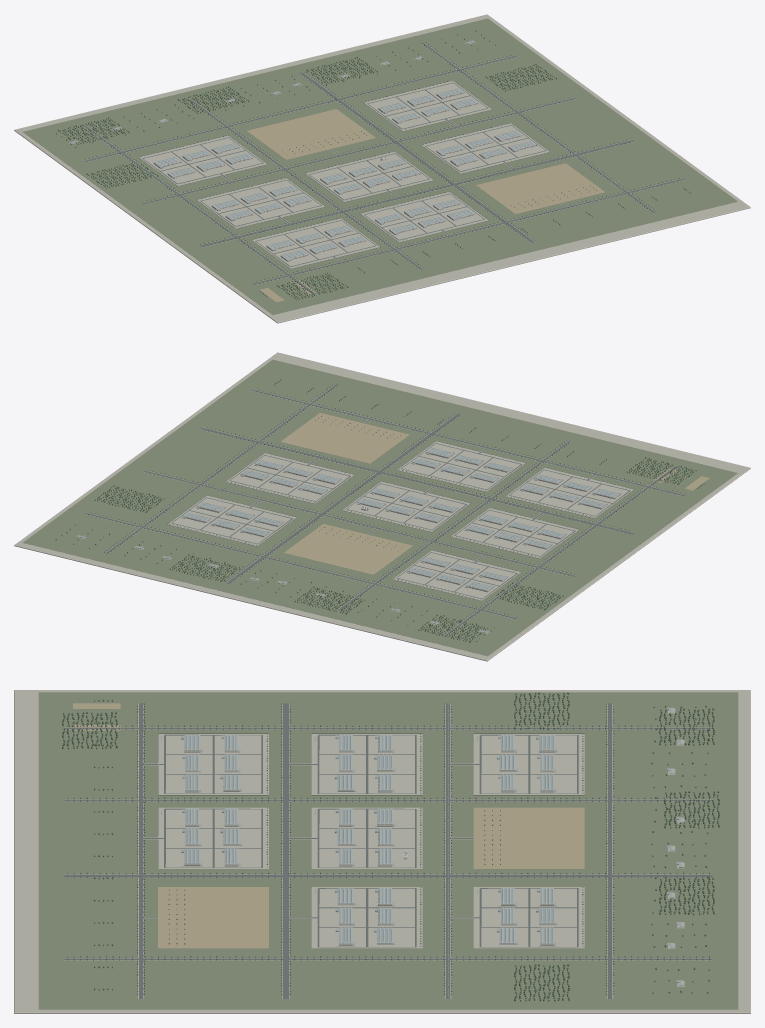
Rendered from GH-complete-v2.glb.
3 views of the same model, one above another, from view 1: azimuth 30°, elevation 25°; view 2: azimuth 150°, elevation 25°; view 3: azimuth 270°, elevation 25° (orthographic). The views are drawn at different scales.
Visible parts, largest first — view 1: GH_TERRAIN, GH_BASE, GH_C03_YARD, GH_C08_YARD, GH_PERIPHERAL_WOODS, GH_AVENUE_COURT_TREES, GH_C06_YARD, GH_C01_YARD, GH_C04_YARD, GH_C07_YARD, GH_C09_YARD, GH_C02_YARD (+14 smaller); view 2: GH_TERRAIN, GH_BASE, GH_C08_YARD, GH_C03_YARD, GH_PERIPHERAL_WOODS, GH_AVENUE_COURT_TREES, GH_C04_YARD, GH_C09_YARD, GH_C01_YARD, GH_C07_YARD, GH_C02_YARD, GH_C06_YARD (+14 smaller); view 3: GH_TERRAIN, GH_BASE, GH_C08_YARD, GH_C03_YARD, GH_PERIPHERAL_WOODS, GH_C09_YARD, GH_C06_YARD, GH_C05_YARD, GH_C02_YARD, GH_C07_YARD, GH_C04_YARD, GH_C01_YARD (+19 smaller).
Part boxes in pixels (<box>): GH_TERRAIN: <box>23,18,737,314</box>; GH_BASE: <box>14,14,750,323</box>; GH_C03_YARD: <box>476,163,604,213</box>; GH_C08_YARD: <box>247,109,375,159</box>; GH_PERIPHERAL_WOODS: <box>58,56,556,299</box>; GH_AVENUE_COURT_TREES: <box>83,42,681,294</box>; GH_C06_YARD: <box>421,123,549,173</box>; GH_C01_YARD: <box>252,218,379,268</box>; GH_C04_YARD: <box>197,178,325,228</box>; GH_C07_YARD: <box>139,135,267,185</box>; GH_C09_YARD: <box>363,80,491,131</box>; GH_C02_YARD: <box>360,191,488,242</box>; GH_TERRAIN: <box>23,359,737,656</box>; GH_BASE: <box>14,352,750,661</box>; GH_C08_YARD: <box>284,524,412,574</box>; GH_C03_YARD: <box>280,413,409,463</box>; GH_PERIPHERAL_WOODS: <box>94,457,696,642</box>; GH_AVENUE_COURT_TREES: <box>88,384,684,635</box>; GH_C04_YARD: <box>450,508,578,558</box>; GH_C09_YARD: <box>168,495,296,545</box>; GH_C01_YARD: <box>505,467,633,518</box>; GH_C07_YARD: <box>392,550,520,600</box>; GH_C02_YARD: <box>397,441,525,491</box>; GH_C06_YARD: <box>226,453,354,503</box>; GH_TERRAIN: <box>38,692,738,1009</box>; GH_BASE: <box>14,690,750,1013</box>; GH_C08_YARD: <box>473,807,584,868</box>; GH_C03_YARD: <box>158,887,268,948</box>; GH_PERIPHERAL_WOODS: <box>62,692,719,1001</box>; GH_C09_YARD: <box>473,887,584,948</box>; GH_C06_YARD: <box>311,887,422,948</box>; GH_C05_YARD: <box>311,807,422,868</box>; GH_C02_YARD: <box>158,807,268,868</box>; GH_C07_YARD: <box>473,734,584,794</box>; GH_C04_YARD: <box>311,734,422,794</box>; GH_C01_YARD: <box>158,734,268,794</box>.
Bounding box in the file's own units: 4480 × 44.84 × 4320.
